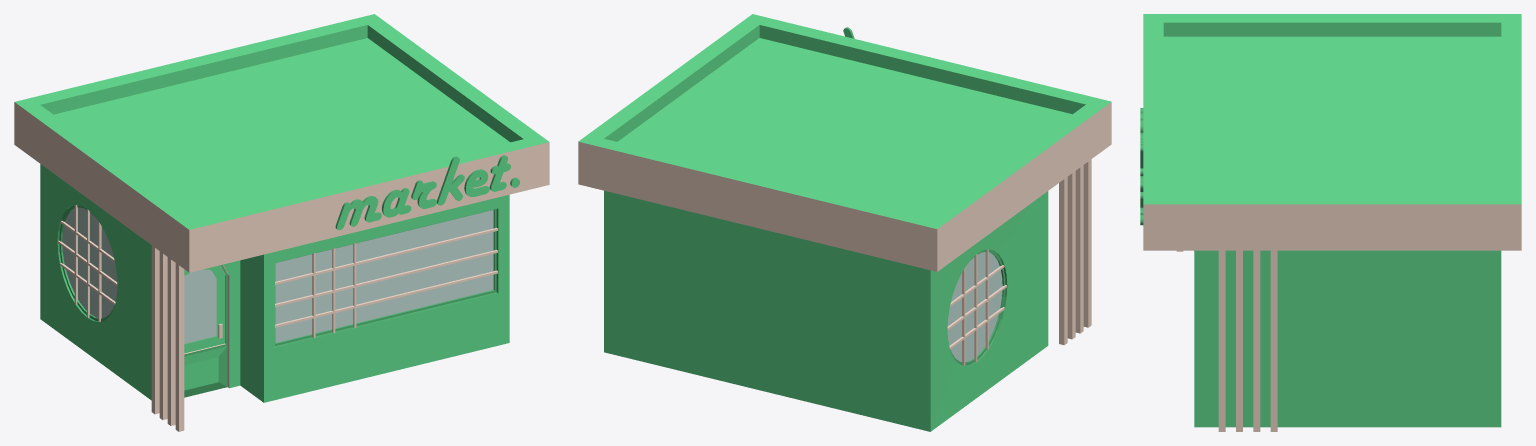
Rendered from market.glb.
The picture shows the model from 3 angles, left to right: view 1: azimuth 30°, elevation 25°; view 2: azimuth 150°, elevation 25°; view 3: azimuth 270°, elevation 25°; orthographic projection. The views are drawn at different scales.
Visible parts, largest first — view 1: body; view 2: body; view 3: body.
Boxes of the visible parts, bbox=[...] form: body: bbox=[14, 14, 549, 431]; body: bbox=[578, 14, 1111, 431]; body: bbox=[1140, 14, 1521, 431].
Bounding box in the file's own units: 6.78 × 4.01 × 5.75.
